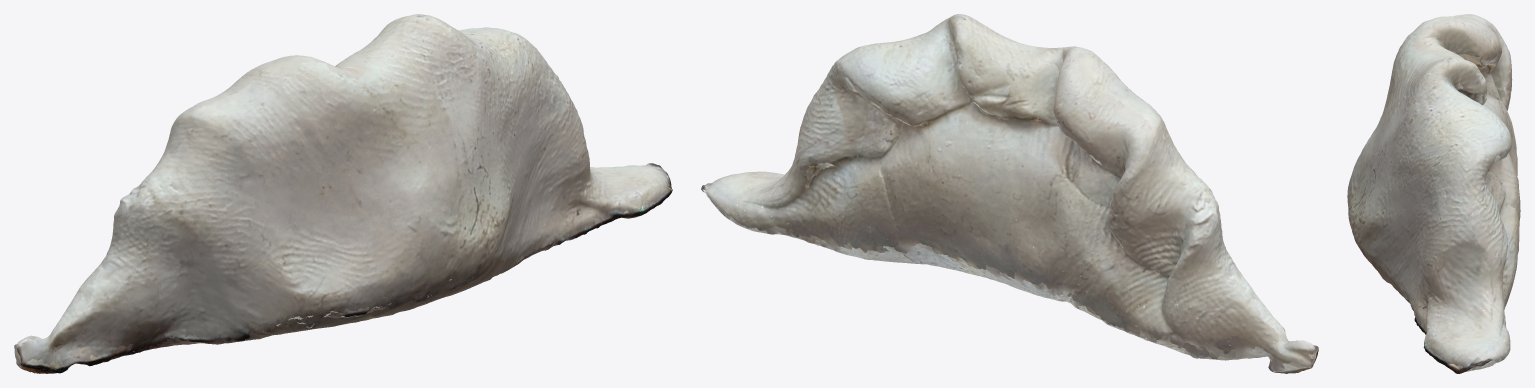
Rendered from karipap.glb.
3 views of the same model, side by side, from view 1: azimuth 30°, elevation 25°; view 2: azimuth 150°, elevation 25°; view 3: azimuth 270°, elevation 25° (orthographic). The views are drawn at different scales.
Parts seen in each view (by area): view 1: Karipap; view 2: Karipap; view 3: Karipap.
Boxes of the visible parts, x1,y1,x2,y2 form: Karipap: [14, 14, 672, 373]; Karipap: [701, 14, 1318, 373]; Karipap: [1347, 14, 1520, 373].
Bounding box in the file's own units: 0.075 × 0.031 × 0.0201.
1 material, 1 textured.
